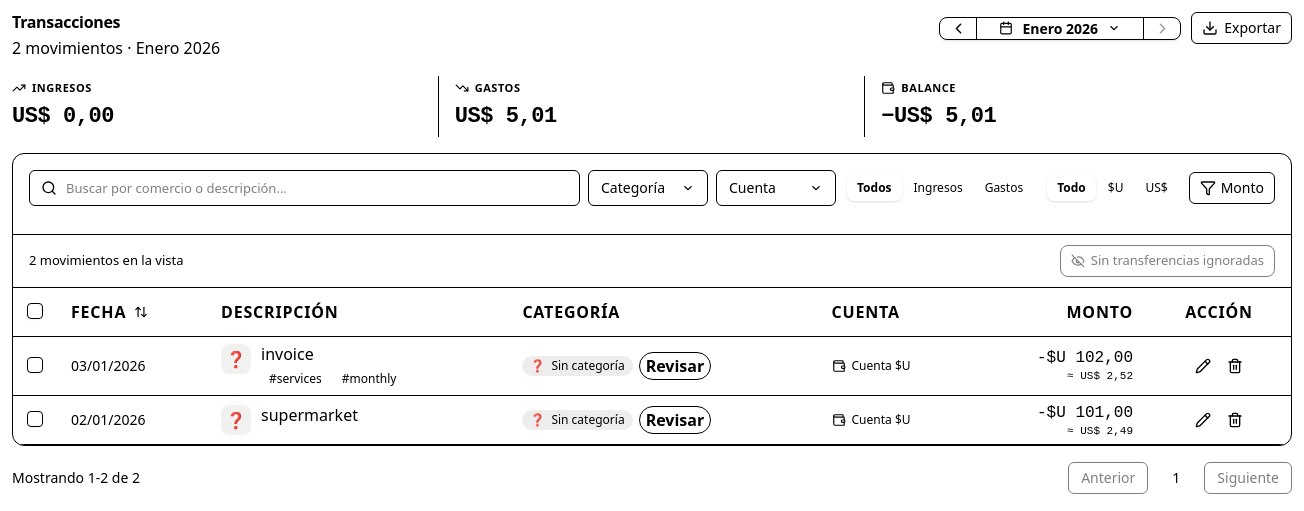
Test: Transactions › allows searching by tags
The width and height of the screenshot is (1304, 511).
Step 1. Type "monthly" into the field with placeholder "Buscar por comercio o descripción..." → (304, 188), box [29,170,580,206]
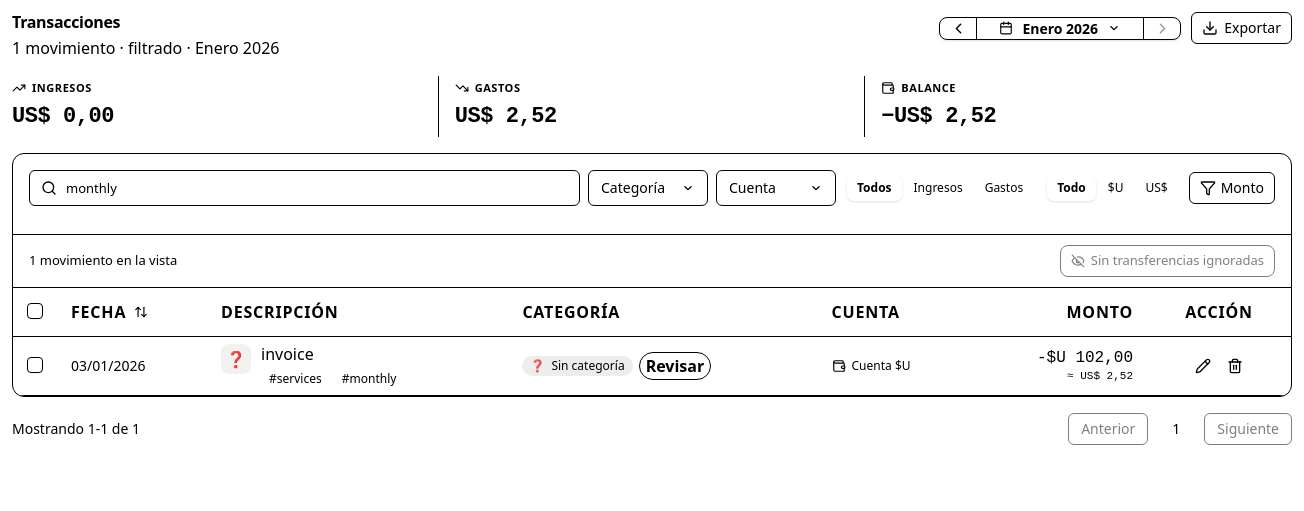
Check: the text "invoice" is shown, box [261,342,314,364]
Check: the text "supermarket" is gone
